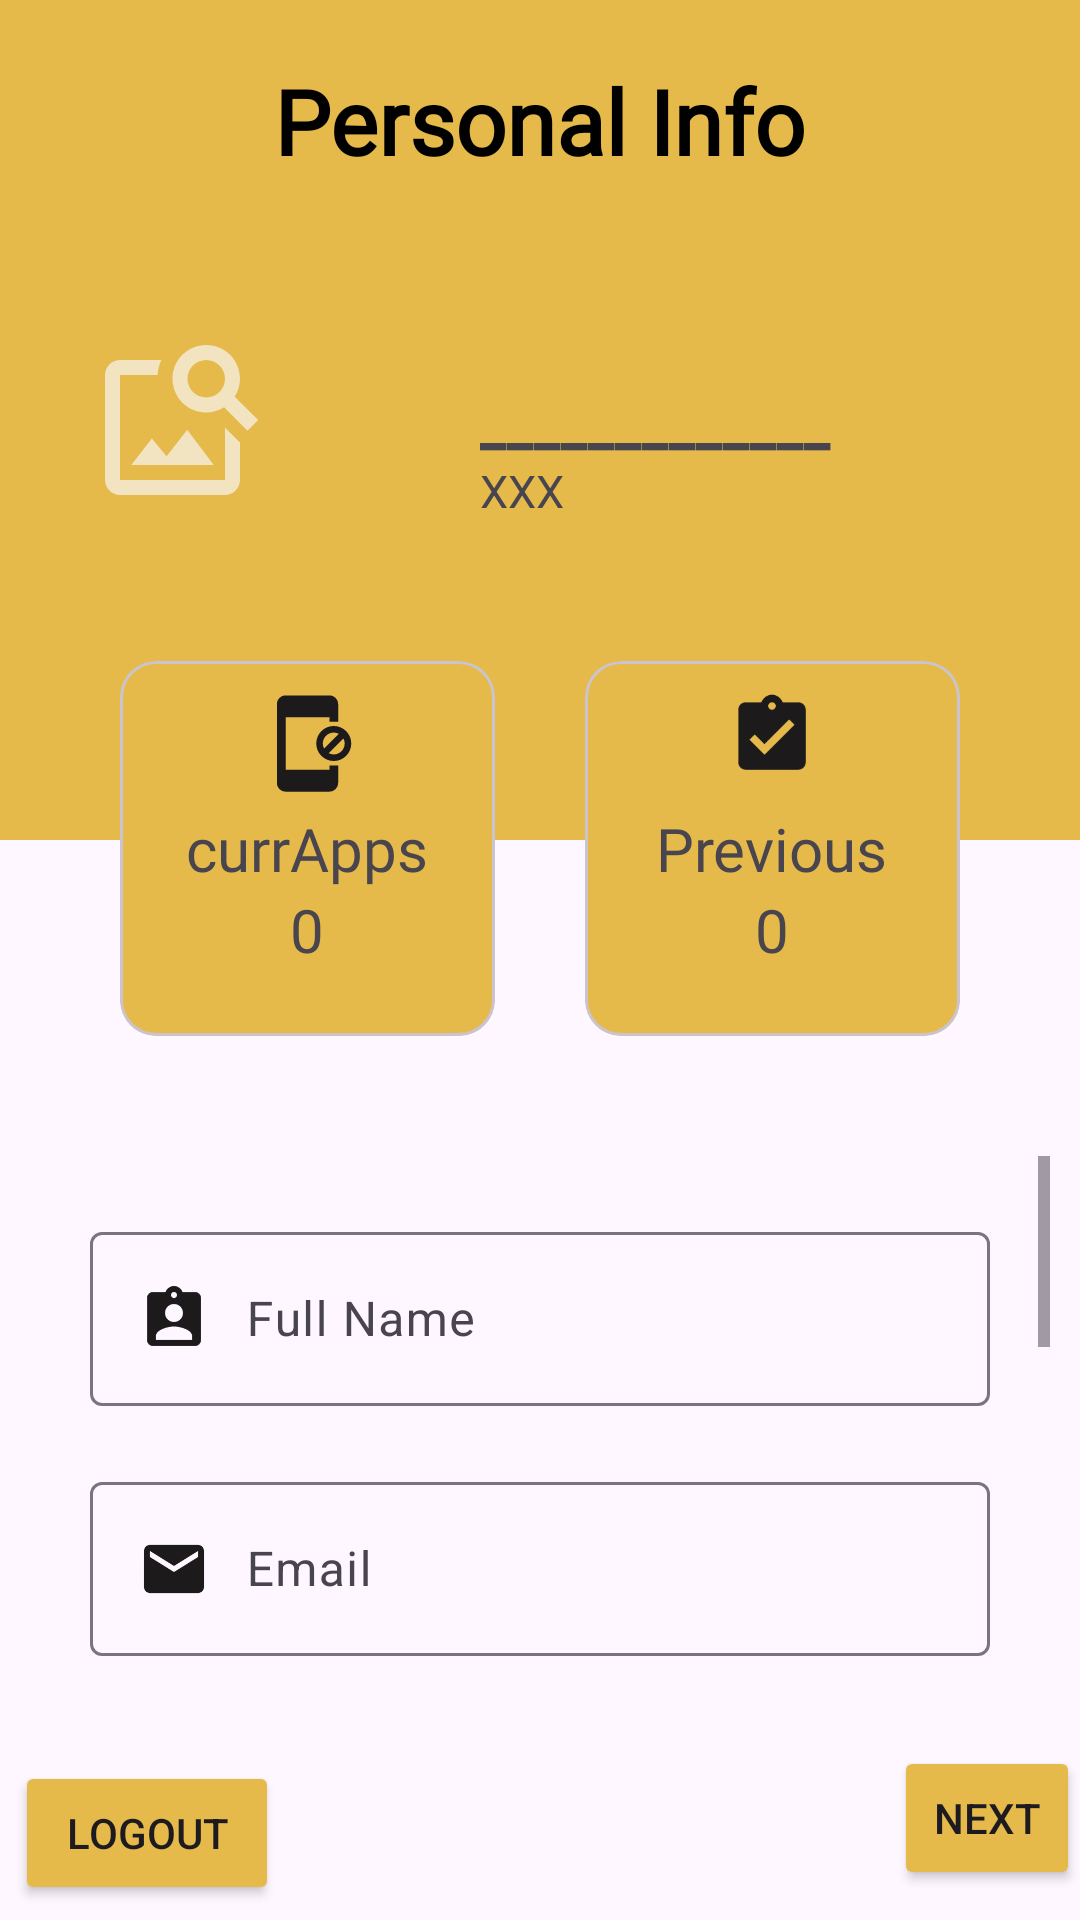

Screen size 1080px x 1920px. Icon name, then its center in pixels as (x,y):
search: (181,420)
